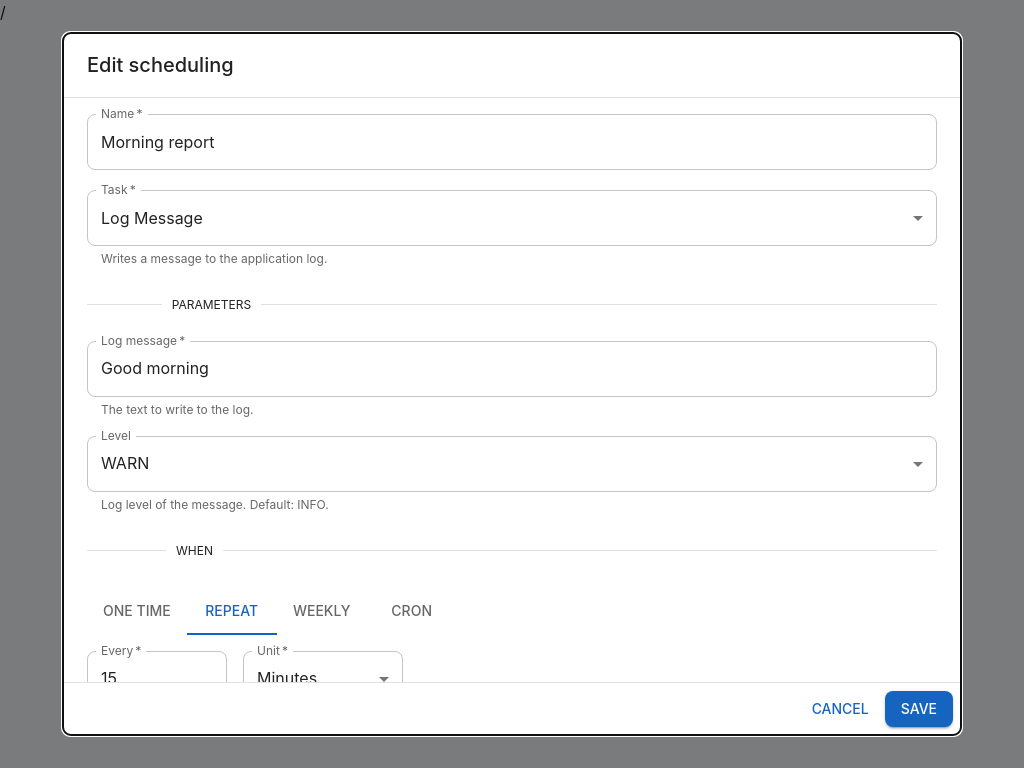
Scenario: SchedulingFormDialog — edit › disables saving when the edit lock was lost
The width and height of the screenshot is (1024, 768).
Click the button "Save" at (919,709), box [885,690,953,727]
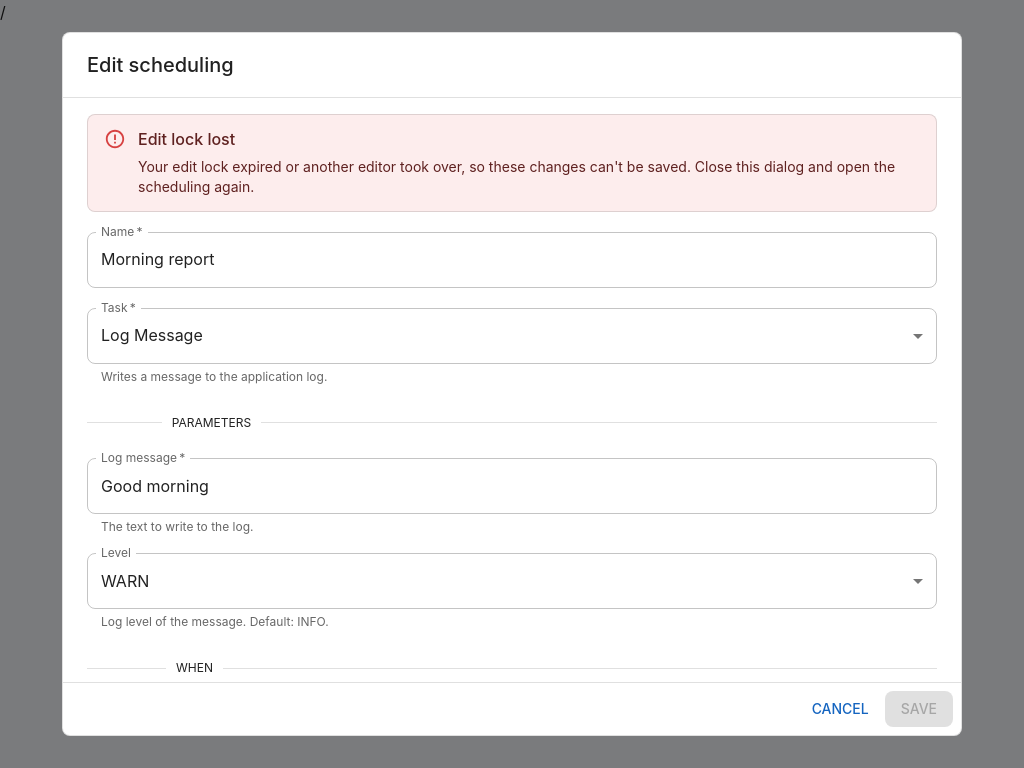
Now the text "Edit lock lost" is shown, box [138,129,235,149]
Now the button "Save" is disabled, box [885,690,953,727]
